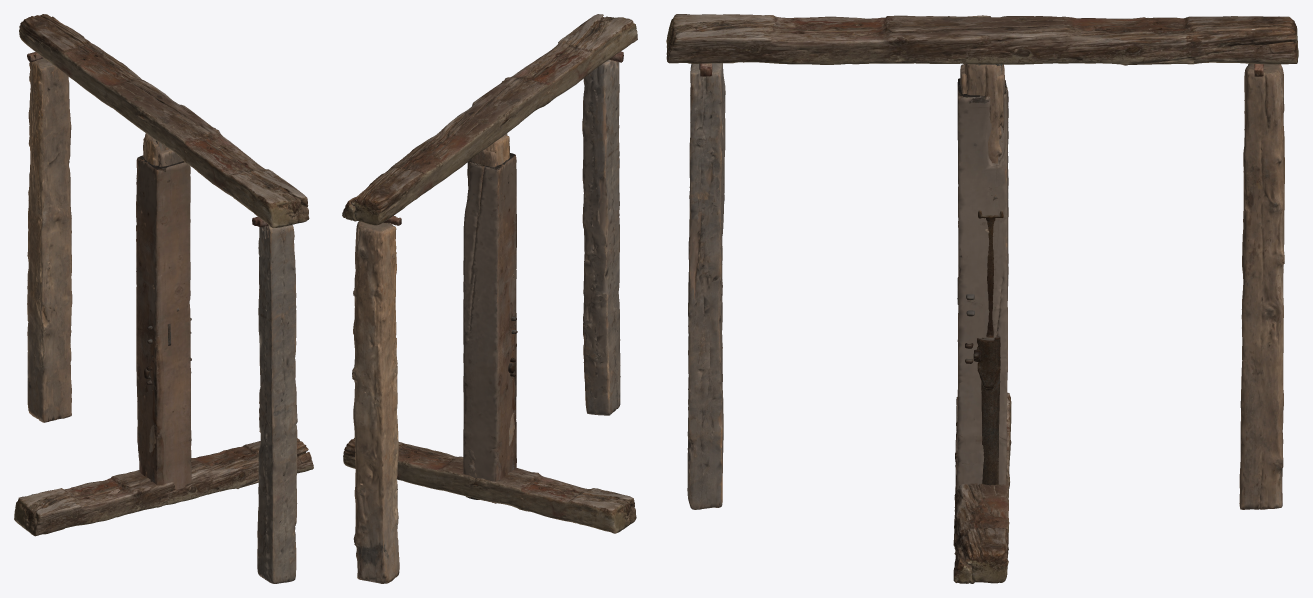
File: MineAlt_Ausbau.9ee01b967f.glb
3 views of the same model, side by side, from view 1: azimuth 30°, elevation 25°; view 2: azimuth 150°, elevation 25°; view 3: azimuth 270°, elevation 25° (orthographic). The views are drawn at different scales.
Parts seen in each view (by area): view 1: tuerstock, stempel_4, kappe, stempel_2; view 2: tuerstock, stempel_4, kappe, stempel_2, stempel_3; view 3: tuerstock, stempel_4, kappe, stahlstempel_2, stempel_2.
Part boxes in pixels (x1,y1,x2,y2): tuerstock: [19, 14, 309, 583]; stempel_4: [136, 155, 191, 507]; kappe: [14, 438, 313, 536]; stempel_2: [143, 133, 169, 165]; tuerstock: [342, 14, 637, 583]; stempel_4: [463, 153, 516, 503]; kappe: [343, 438, 636, 533]; stempel_2: [468, 134, 509, 186]; stempel_3: [467, 143, 509, 186]; tuerstock: [666, 14, 1298, 509]; stempel_4: [956, 78, 1008, 490]; kappe: [953, 392, 1011, 583]; stahlstempel_2: [965, 210, 1003, 485]; stempel_2: [964, 64, 1003, 200].
Size of the model in its own units: 1.99 by 2.67 by 3.2.
Materials: 14 (14 with a texture image).
